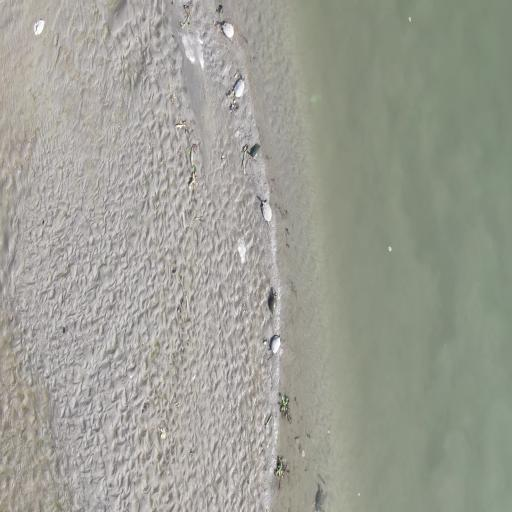turtle: (261, 197, 273, 224), (220, 20, 234, 39), (232, 79, 246, 98), (269, 289, 278, 314), (251, 140, 261, 162), (270, 335, 280, 354)
